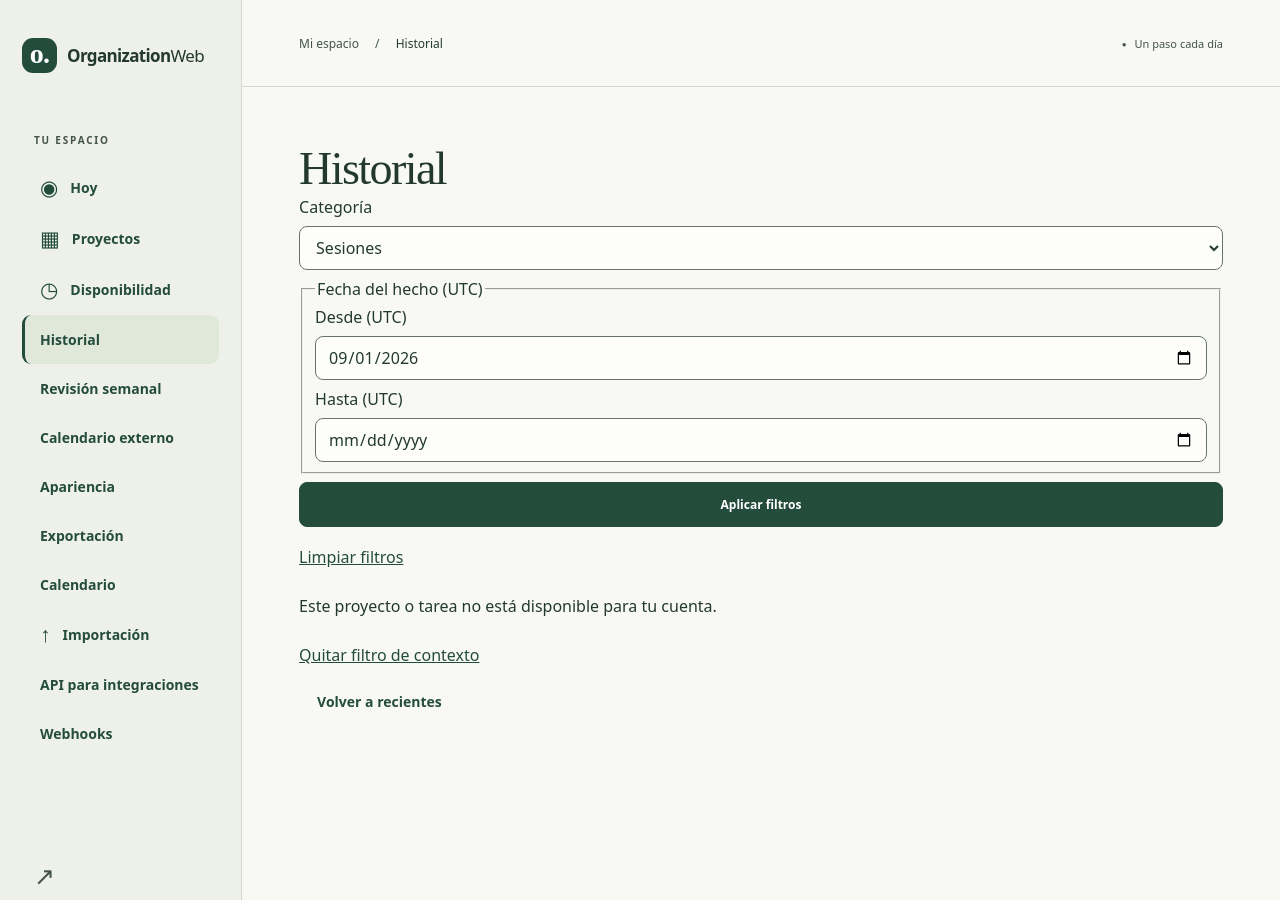
Scenario: @s37 removes unavailable context while retaining date and category filters
Check: the message reads "Este proyecto o tarea no está disponible para tu cuenta.", box [299,595,717,617]
Click the link "Quitar filtro de contexto": coordinates (389, 655) [299,644,480,666]
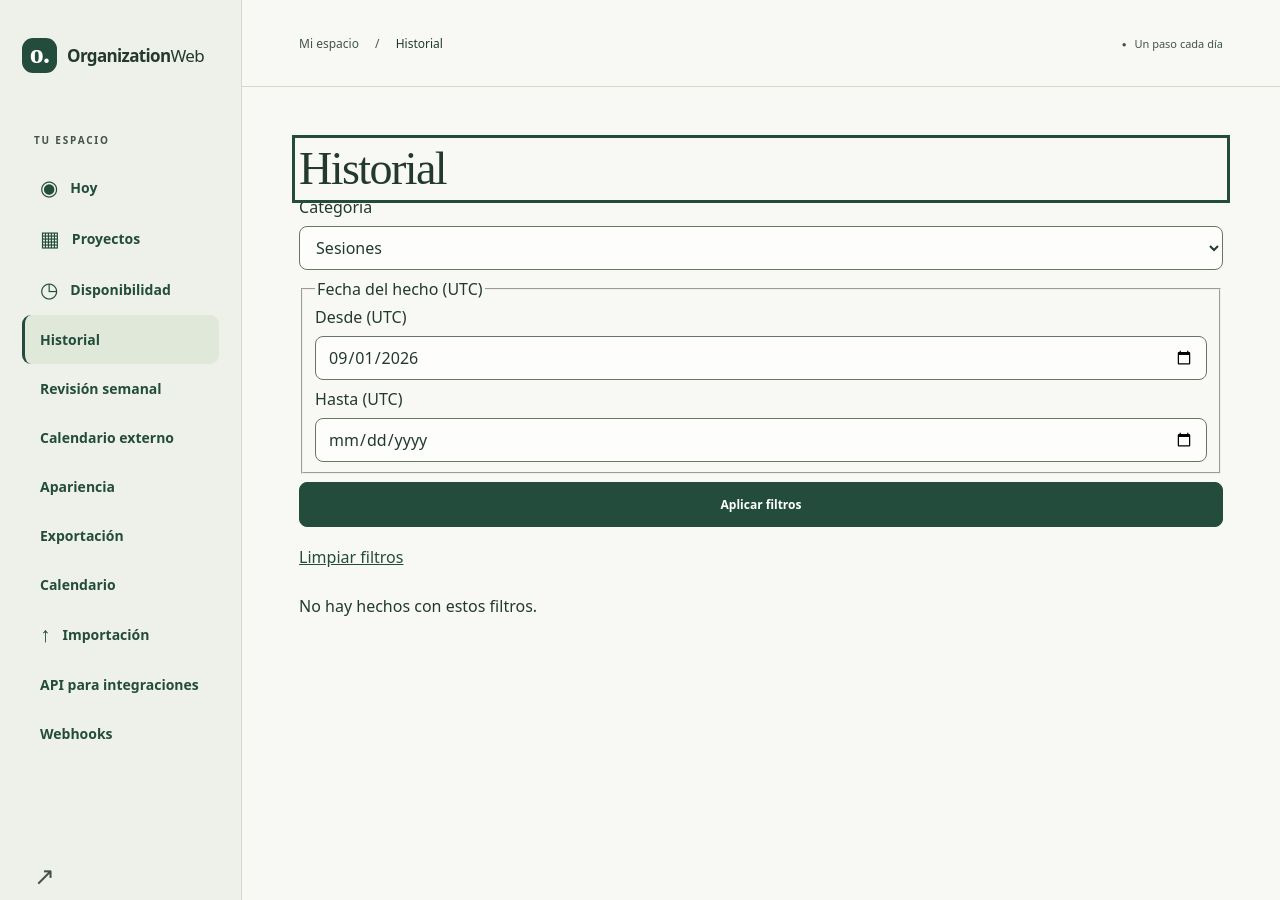
Check: the text "No hay hechos con estos filtros." is shown, box [299,595,537,617]
